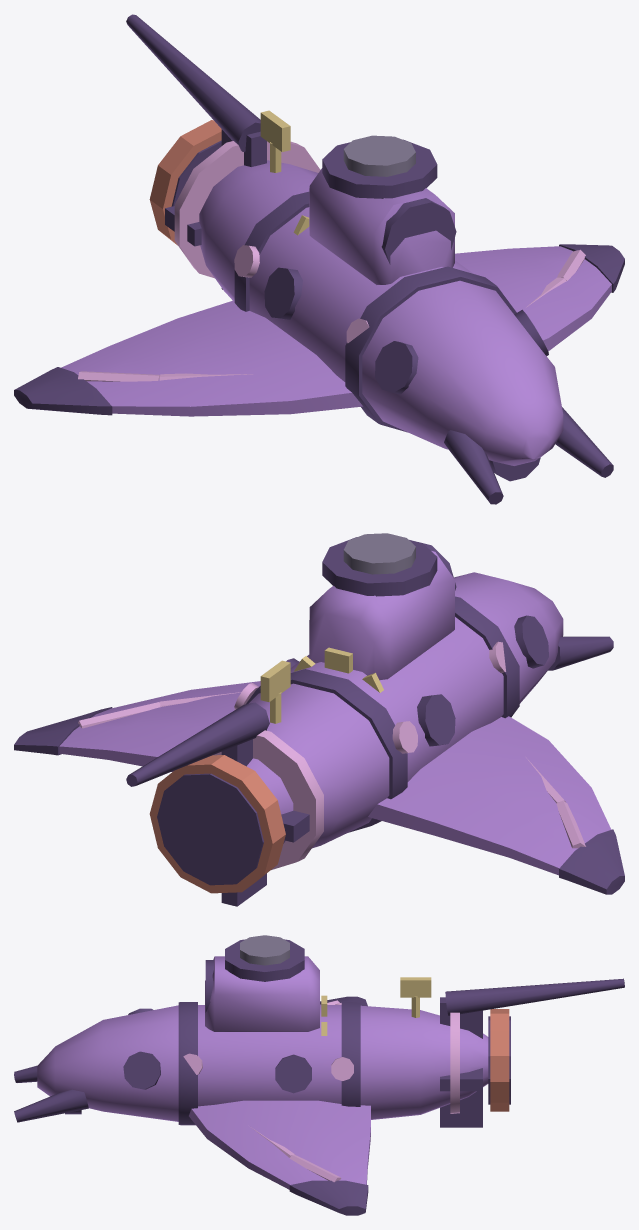
The model's file is submarines_TwilightRay.glb.
The picture shows the model from 3 angles, top to bottom: view 1: azimuth 30°, elevation 25°; view 2: azimuth 150°, elevation 25°; view 3: azimuth 270°, elevation 25°; orthographic projection. The views are drawn at different scales.
Parts seen in each view (by area): view 1: Hull, Hull_Glow; view 2: Hull, Hull_Glow, Prop; view 3: Hull, Hull_Glow.
Boxes of the visible parts, bbox=[...] form: Hull: bbox=[14, 14, 624, 504]; Hull_Glow: bbox=[78, 141, 585, 381]; Hull: bbox=[14, 533, 624, 906]; Hull_Glow: bbox=[78, 641, 585, 869]; Prop: bbox=[294, 647, 383, 692]; Hull: bbox=[14, 935, 624, 1215]; Hull_Glow: bbox=[183, 1000, 459, 1182].
Bounding box in the file's own units: 41.4 × 16.45 × 50.99.
